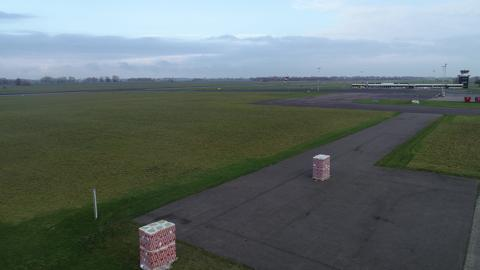RockwoolPallet: (139, 218, 176, 268)
